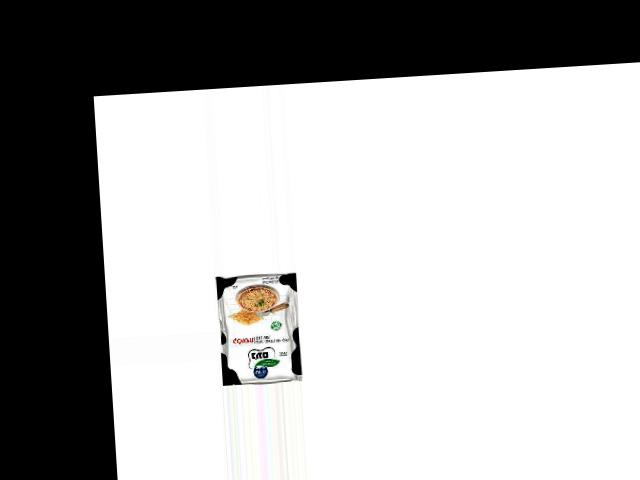cheese: (213, 269, 304, 386)
